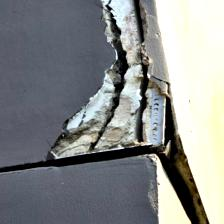High: (33, 1, 216, 224)
